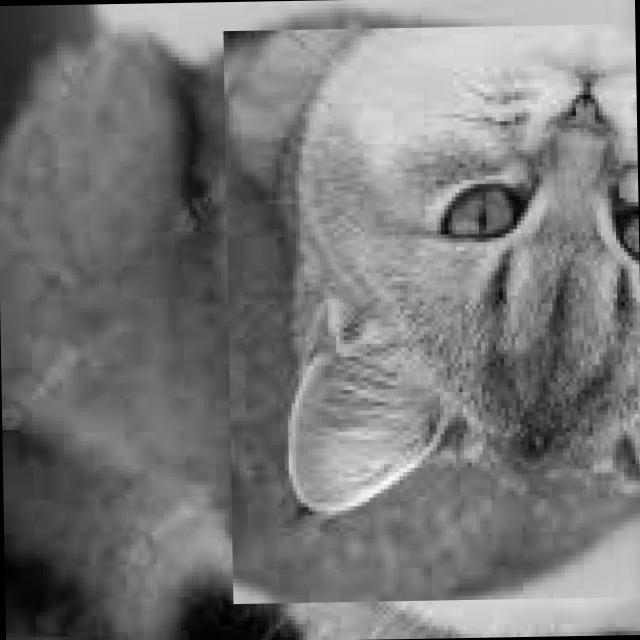british: (223, 23, 640, 603)
